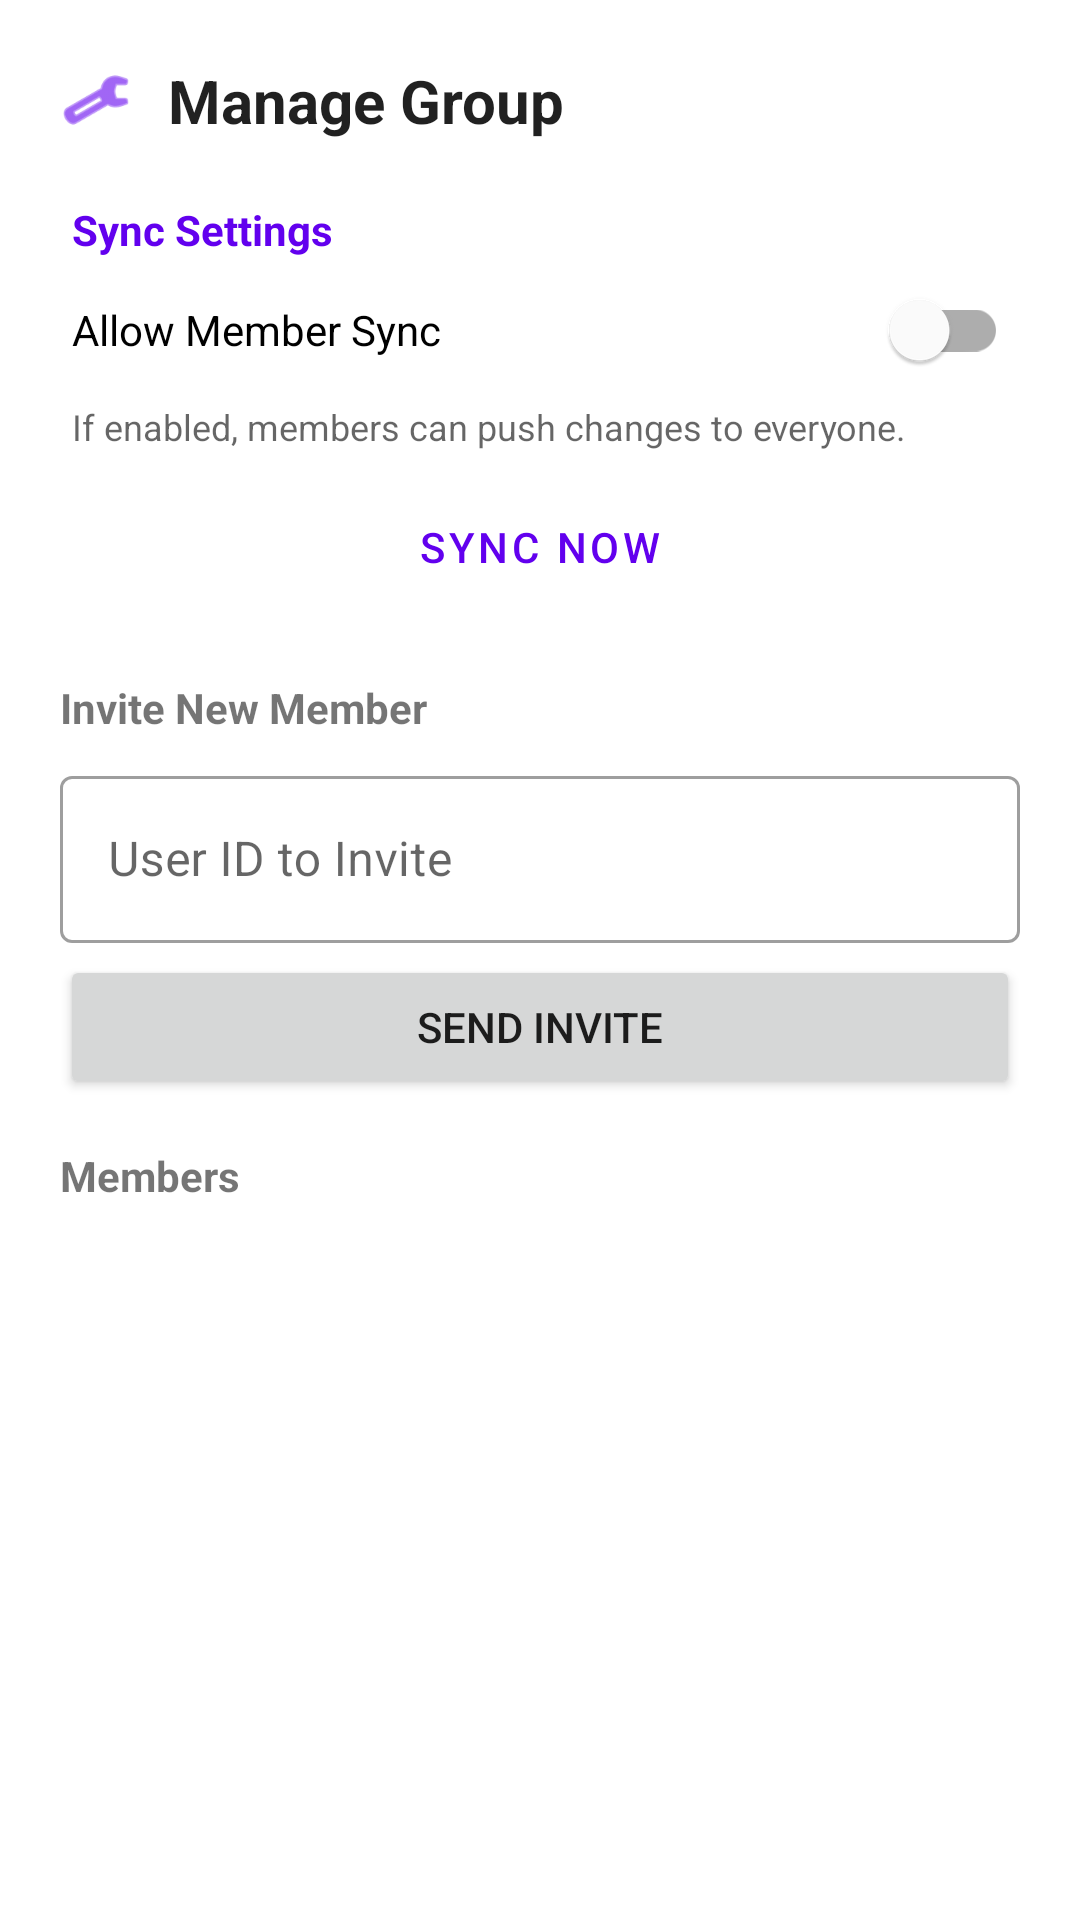

Icon click points for this 1080px x 1920px phone screenshot, format point (x, y):
preferences: point (95, 100)
